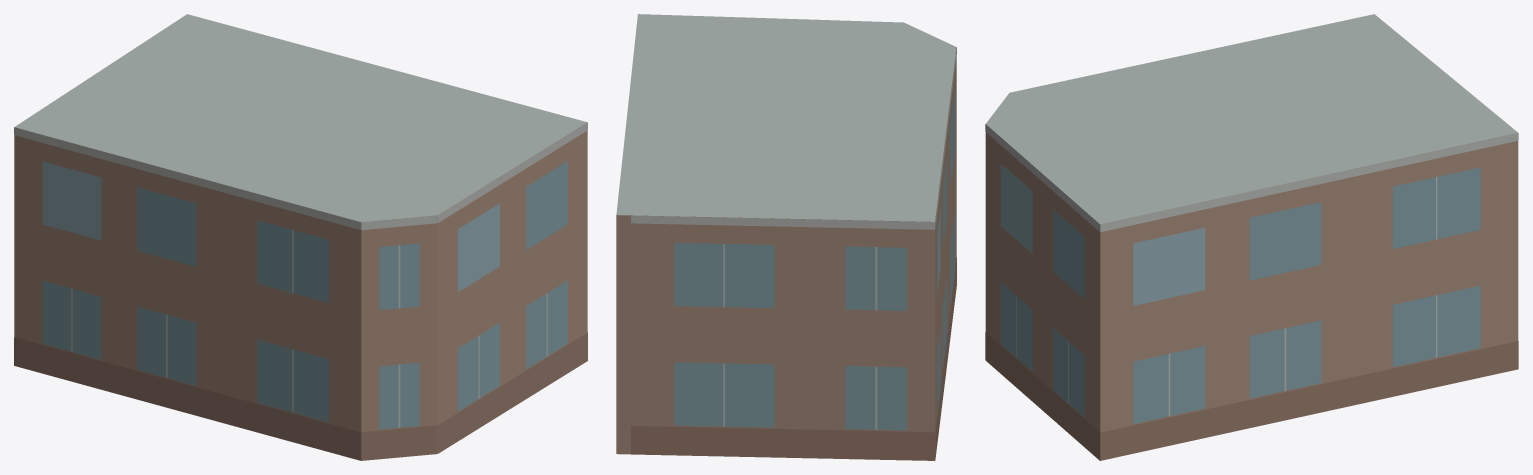
The model's file is survey-upis-32741319.glb.
3 views of the same model, side by side, from view 1: azimuth 30°, elevation 25°; view 2: azimuth 150°, elevation 25°; view 3: azimuth 270°, elevation 25° (orthographic).
Visible parts, largest first — view 1: survey-upis-32741319.tmp; view 2: survey-upis-32741319.tmp; view 3: survey-upis-32741319.tmp.
Boxes of the visible parts, x1,y1,x2,y2 form: survey-upis-32741319.tmp: [14, 14, 587, 460]; survey-upis-32741319.tmp: [616, 14, 956, 460]; survey-upis-32741319.tmp: [985, 14, 1518, 460].
Bounding box in the file's own units: 13.94 × 7.3 × 14.92.
